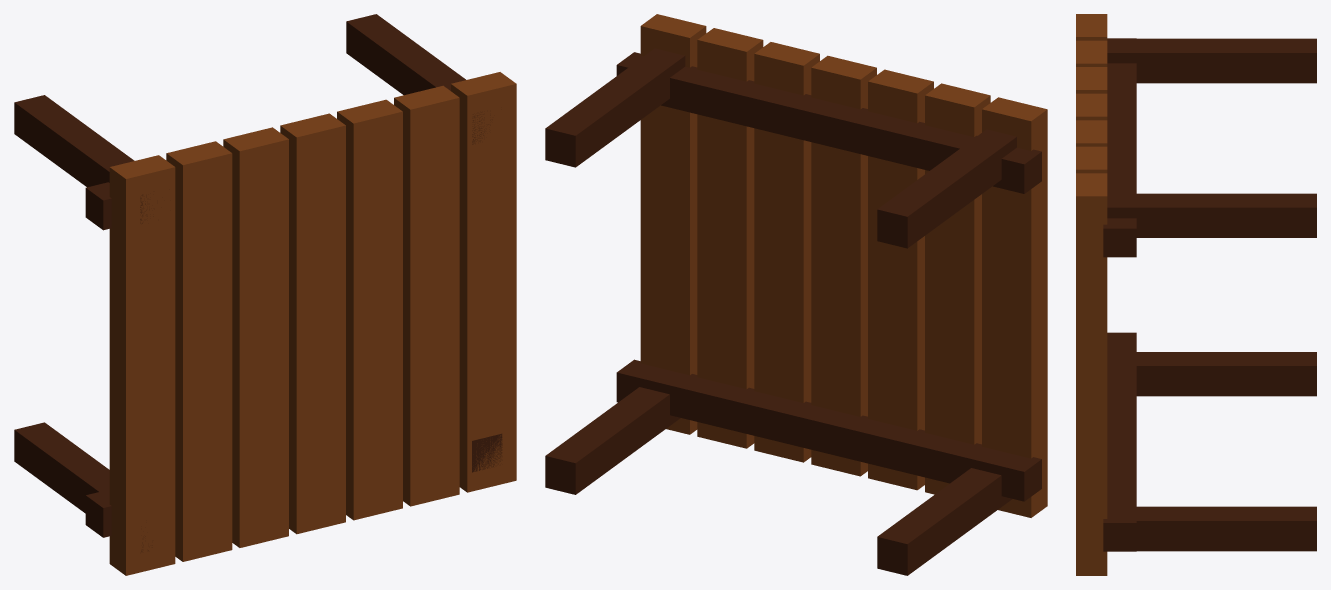
File: SM_CHK_DockModule.obj
3 renders of one model, left to right at view 1: azimuth 30°, elevation 25°; view 2: azimuth 150°, elevation 25°; view 3: azimuth 270°, elevation 25°, orthographic. The views are drawn at different scales.
Visible parts, largest first — view 1: Plank_0, Plank_1, Plank_4, Plank_5, Plank_3, Plank_2, Plank_6, PostBL, PostBR, PostFL, CrossBeamA, CrossBeamB (+1 smaller); view 2: Plank_0, Plank_5, Plank_4, Plank_3, Plank_6, CrossBeamA, Plank_2, Plank_1, CrossBeamB, PostBR, PostBL, PostFR (+1 smaller); view 3: Plank_6, PostBL, PostBR, PostFR, PostFL, CrossBeamA, CrossBeamB, Plank_3, Plank_5, Plank_0, Plank_2, Plank_4 (+1 smaller).
Part boxes in pixels (box(x1,y1,x2,y2)): Plank_0: box(109, 155, 175, 575); Plank_1: box(166, 141, 232, 561); Plank_4: box(337, 99, 402, 520); Plank_5: box(394, 85, 459, 506); Plank_3: box(280, 113, 345, 534); Plank_2: box(223, 127, 288, 547); Plank_6: box(451, 72, 516, 492); PostBL: box(14, 95, 153, 223); PostBR: box(346, 14, 492, 144); PostFL: box(14, 422, 152, 551); CrossBeamA: box(85, 489, 111, 537); CrossBeamB: box(85, 182, 111, 230); Plank_0: box(982, 97, 1047, 517); Plank_5: box(697, 28, 763, 448); Plank_4: box(754, 42, 819, 462); Plank_3: box(811, 55, 876, 476); Plank_6: box(640, 14, 706, 434); CrossBeamA: box(616, 359, 1041, 501); Plank_2: box(868, 69, 933, 490); Plank_1: box(925, 83, 990, 494); CrossBeamB: box(616, 52, 1041, 193); PostBR: box(545, 48, 685, 167); PostBL: box(877, 129, 1016, 248); PostFR: box(545, 387, 680, 494); Plank_6: box(1076, 173, 1107, 575); PostBL: box(1107, 38, 1316, 83); PostBR: box(1107, 193, 1316, 237); PostFR: box(1136, 506, 1316, 551); PostFL: box(1136, 352, 1316, 396); CrossBeamA: box(1103, 332, 1136, 551); CrossBeamB: box(1103, 38, 1136, 257); Plank_3: box(1076, 93, 1107, 120); Plank_5: box(1076, 146, 1107, 173); Plank_0: box(1076, 14, 1107, 40); Plank_2: box(1076, 67, 1107, 93); Plank_4: box(1076, 120, 1107, 146).
Bounding box in the file's own units: 4.3 × 4 × 2.3.
